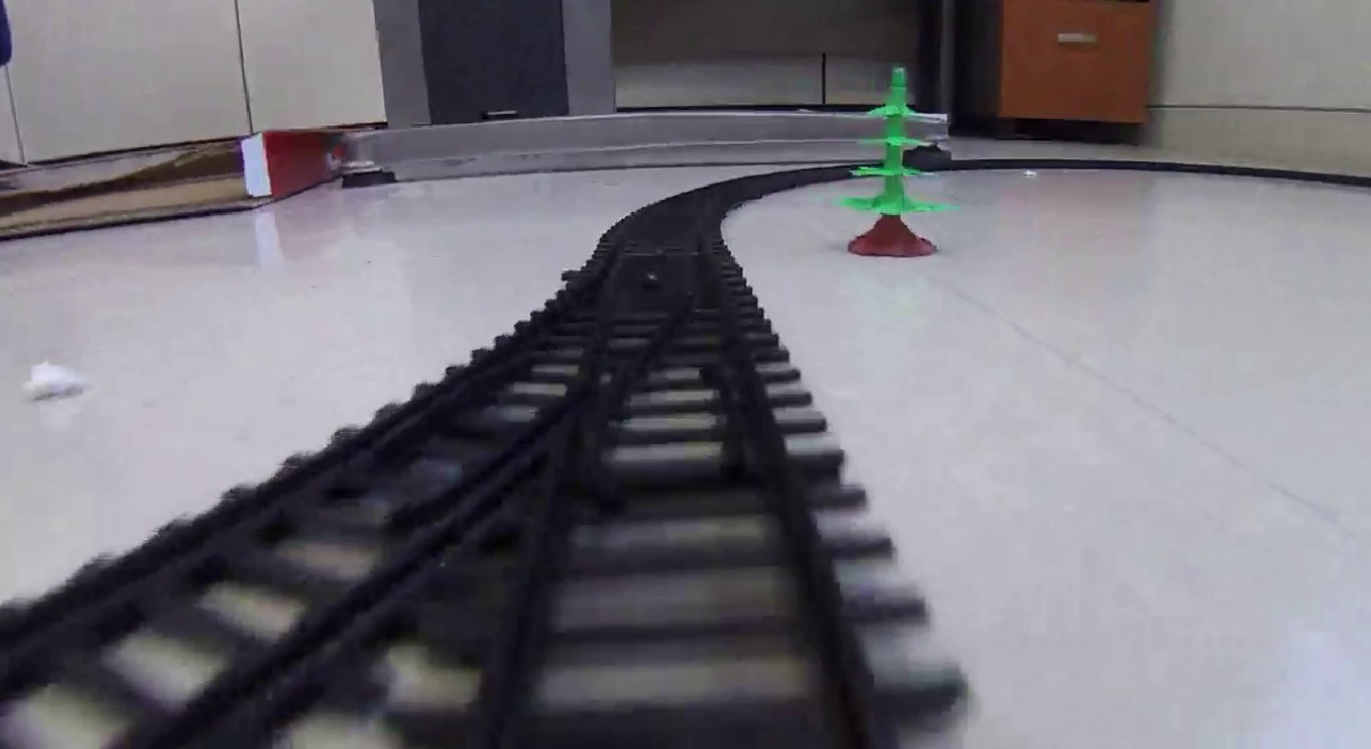tree: (841, 67, 955, 257)
